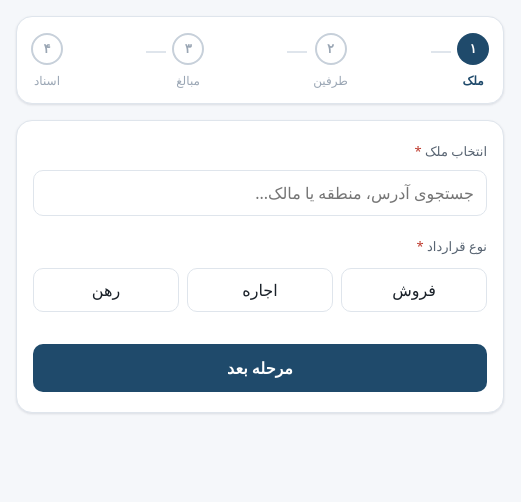
it: ContractWizardScreen — Step 2 (parties) › shows مالک/فروشنده and خریدار labels for sale
Type "مولوی" into the field with placeholder "جستجوی آدرس، منطقه یا مالک...". click: {"x": 260, "y": 193}
box: 33,170 -> 487,216
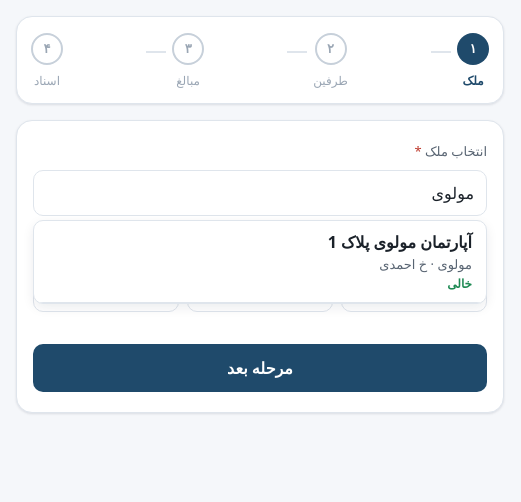
Now the text "آپارتمان مولوی پلاک 1" is shown
Click the text "آپارتمان مولوی پلاک 1". click: {"x": 400, "y": 242}
box: 328,231 -> 472,253
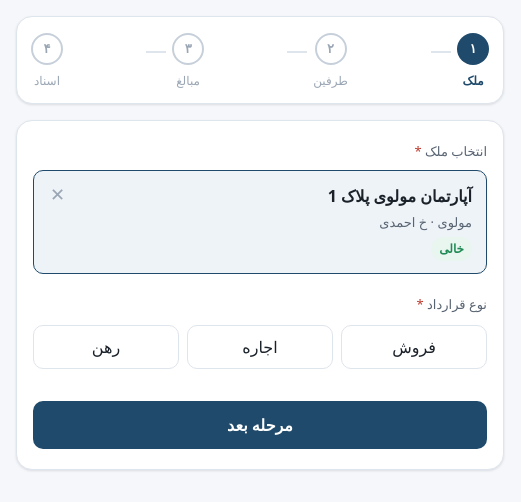
Click the button "فروش". click: {"x": 414, "y": 347}
box: 341,325 -> 487,369
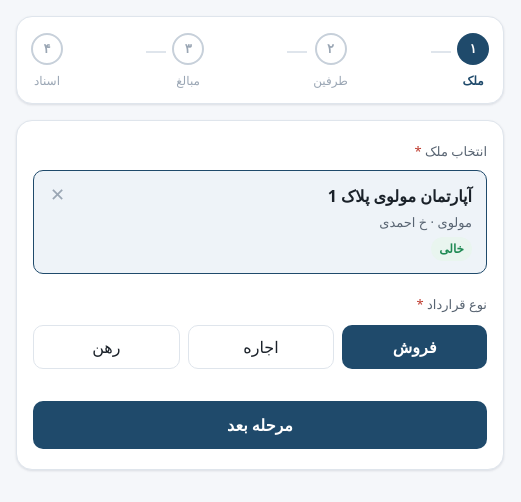
Click the button "مرحله بعد". click: {"x": 260, "y": 425}
box: 33,401 -> 487,449
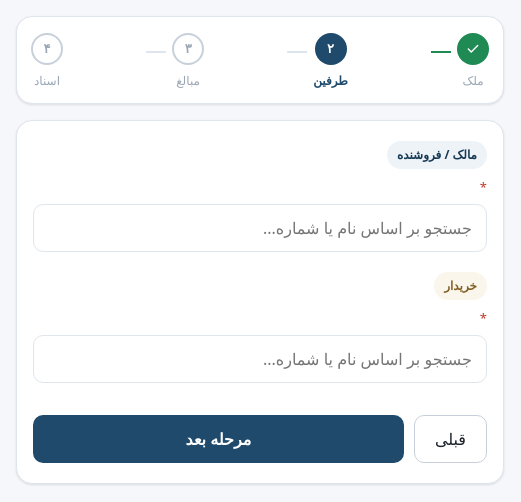
Now the text "مالک / فروشنده" is shown, box 387,141 -> 487,169
Now the text "خریدار" is shown, box 434,272 -> 487,300
